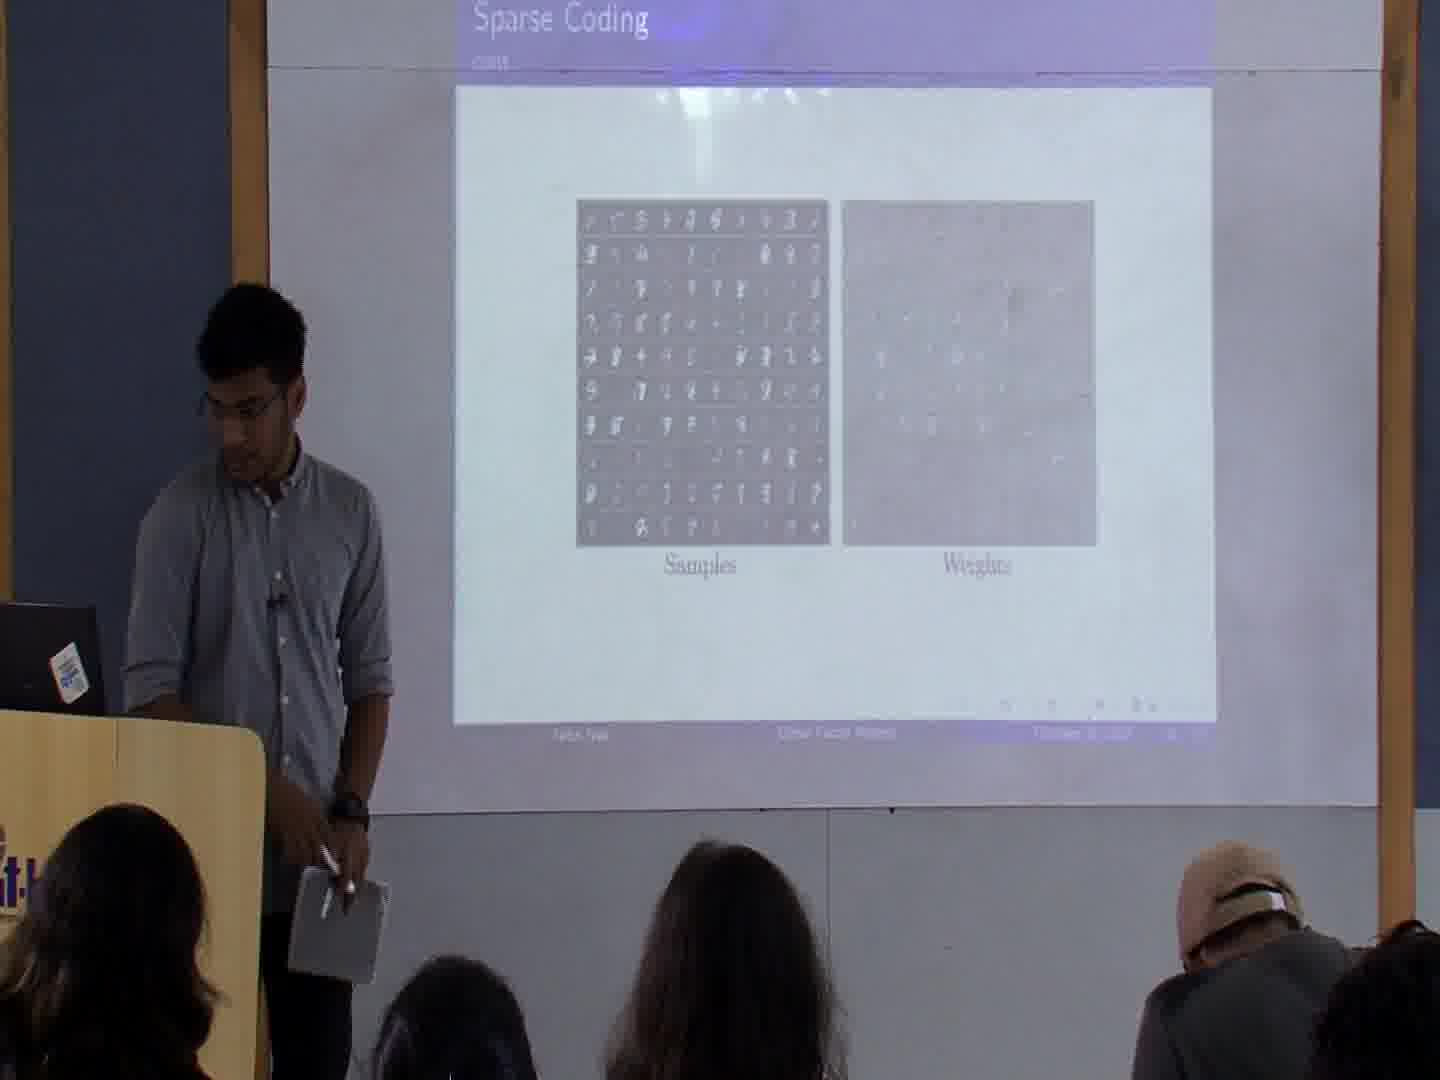slide: (454, 1, 1218, 750)
